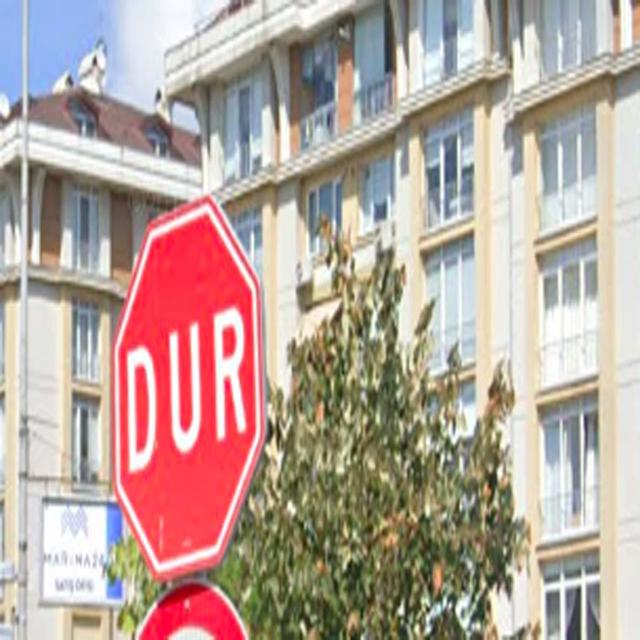dur: (111, 193, 261, 580)
